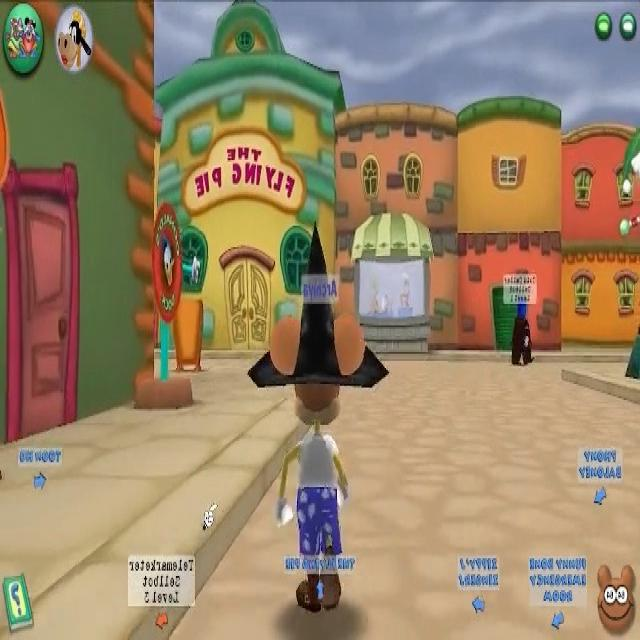coldcaller: (501, 272, 536, 369)
